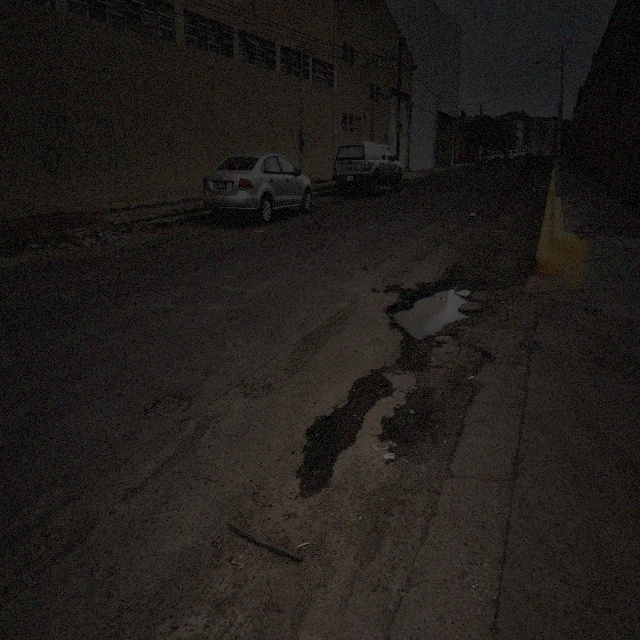pothole: (303, 366, 394, 495), (390, 278, 479, 338), (141, 390, 192, 417)
